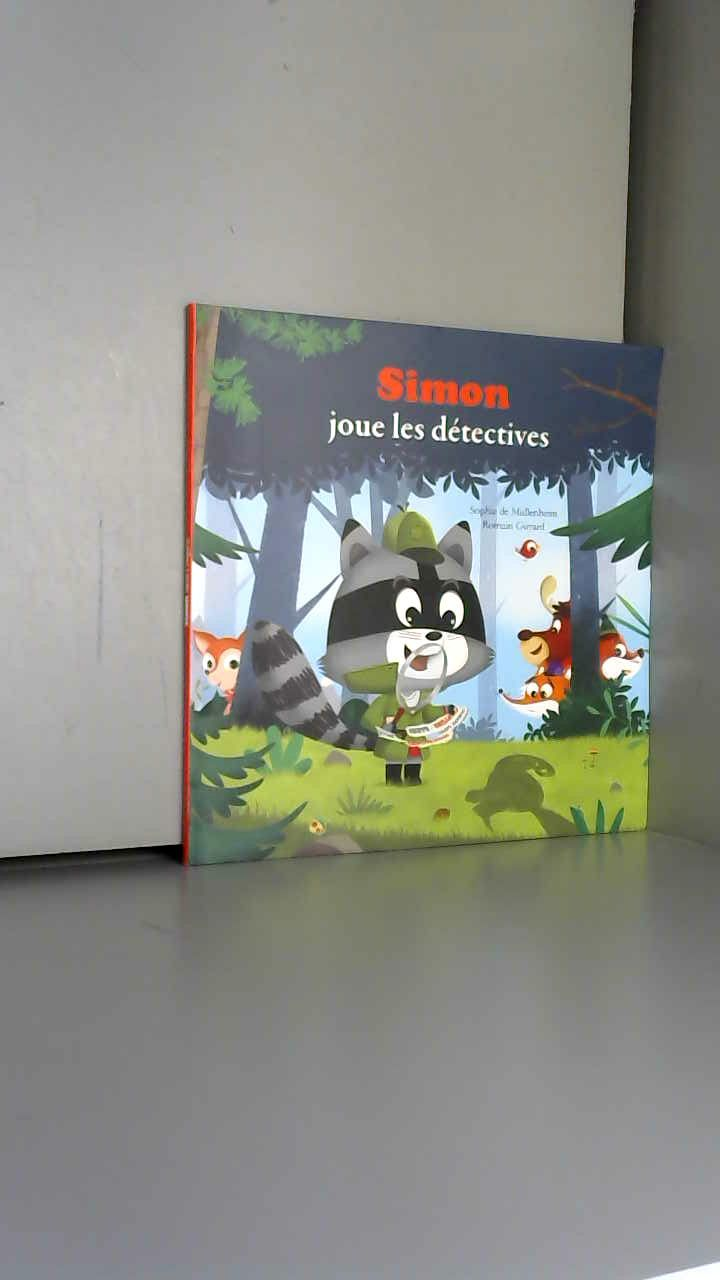book: (160, 270, 717, 879)
